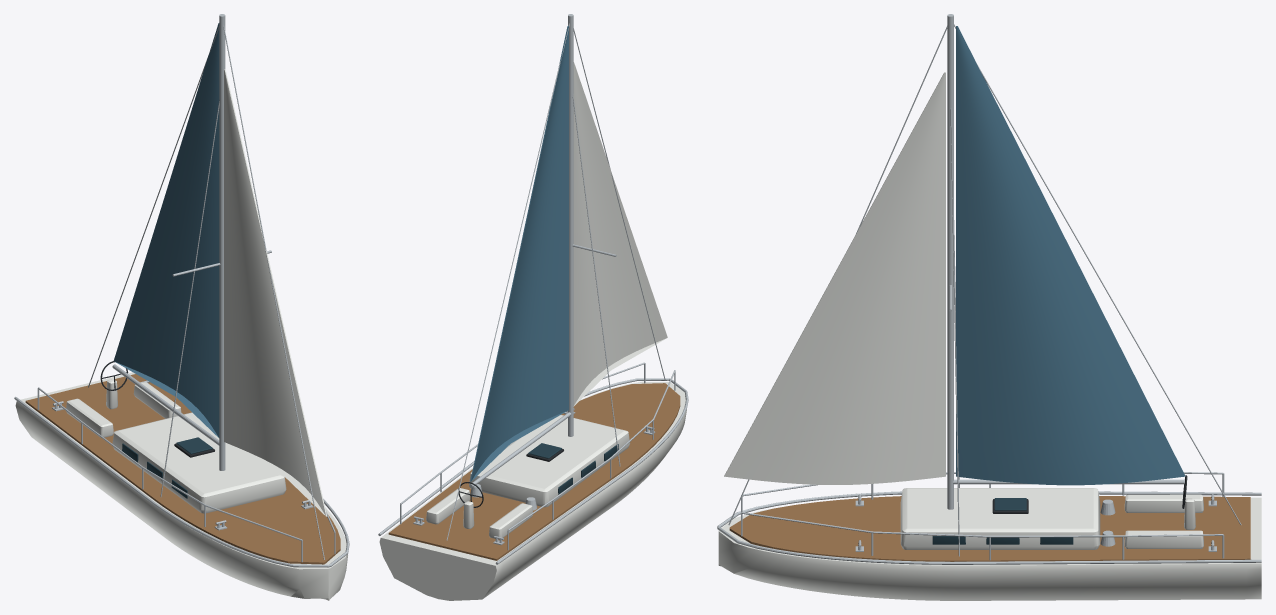
The model's file is transport-collection-hd-sailing-cruiser-103fab8a__18729.glb.
3 views of the same model, side by side, from view 1: azimuth 30°, elevation 25°; view 2: azimuth 150°, elevation 25°; view 3: azimuth 270°, elevation 25° (orthographic). The views are drawn at different scales.
Visible parts, largest first — view 1: sailing-cruiser, boom; view 2: sailing-cruiser, boom; view 3: sailing-cruiser.
Boxes of the visible parts, left/top/right/bottom form: sailing-cruiser: left=14, top=14, right=349, bottom=600; boom: left=112, top=364, right=219, bottom=445; sailing-cruiser: left=378, top=14, right=688, bottom=600; boom: left=469, top=412, right=571, bottom=487; sailing-cruiser: left=717, top=14, right=1261, bottom=600.
Bounding box in the file's own units: 3.36 × 12.3 × 10.63.
